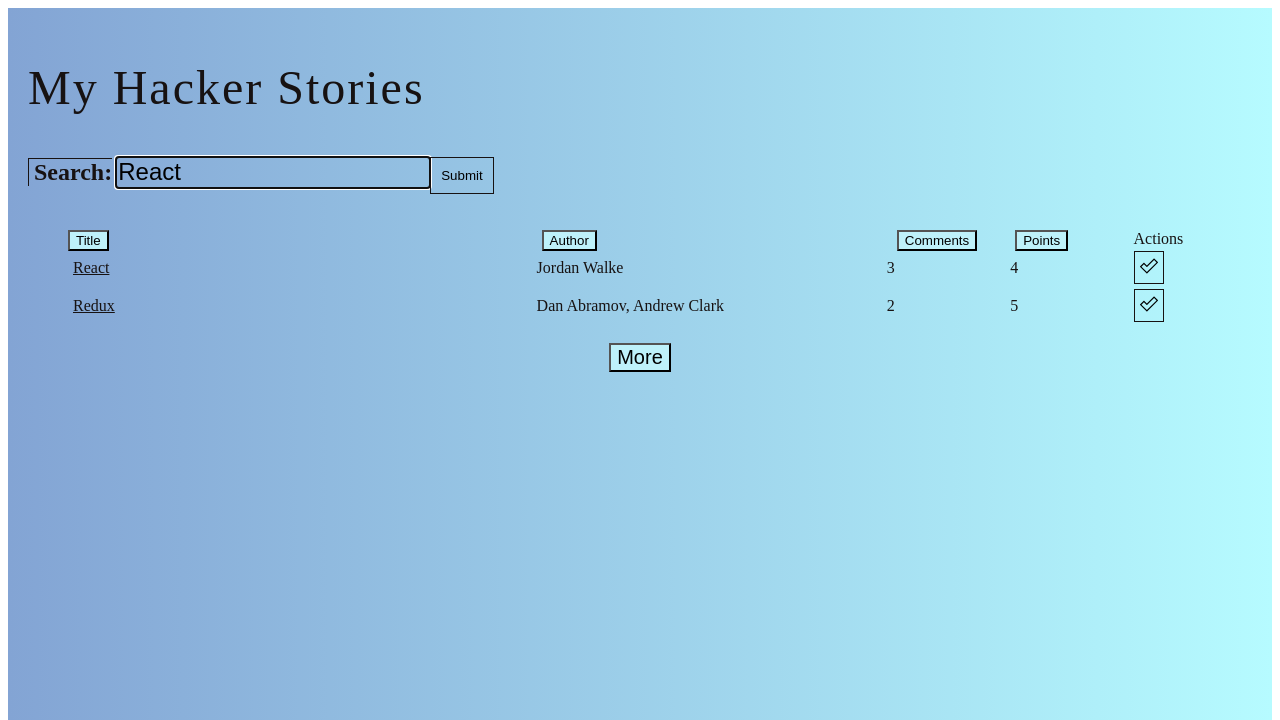
Test: App › removes a story
The image size is (1280, 720).
Expected: the text "Jordan Walke" is shown, [537,259,623,276]
Step 1. Click the button without text in the row of "React" → (1149, 268), box [1134,251,1164,284]
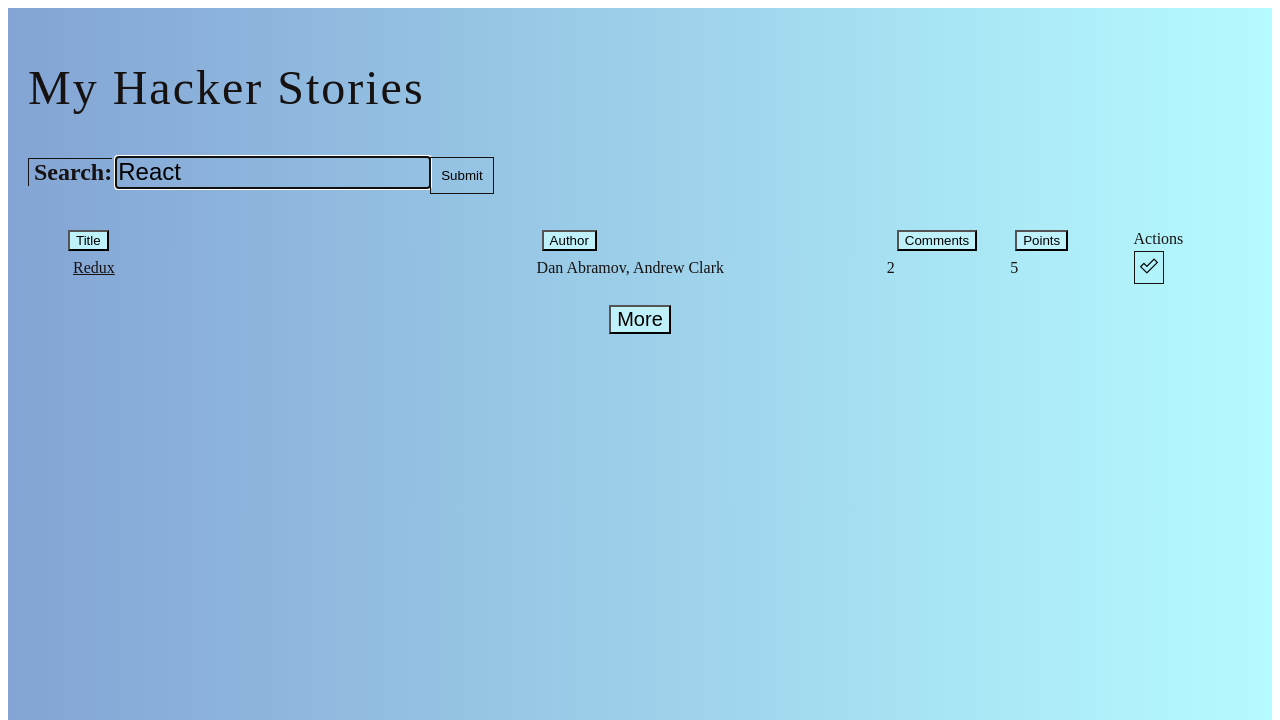
Now the number of buttons is 7
Now the text "Jordan Walke" is gone
